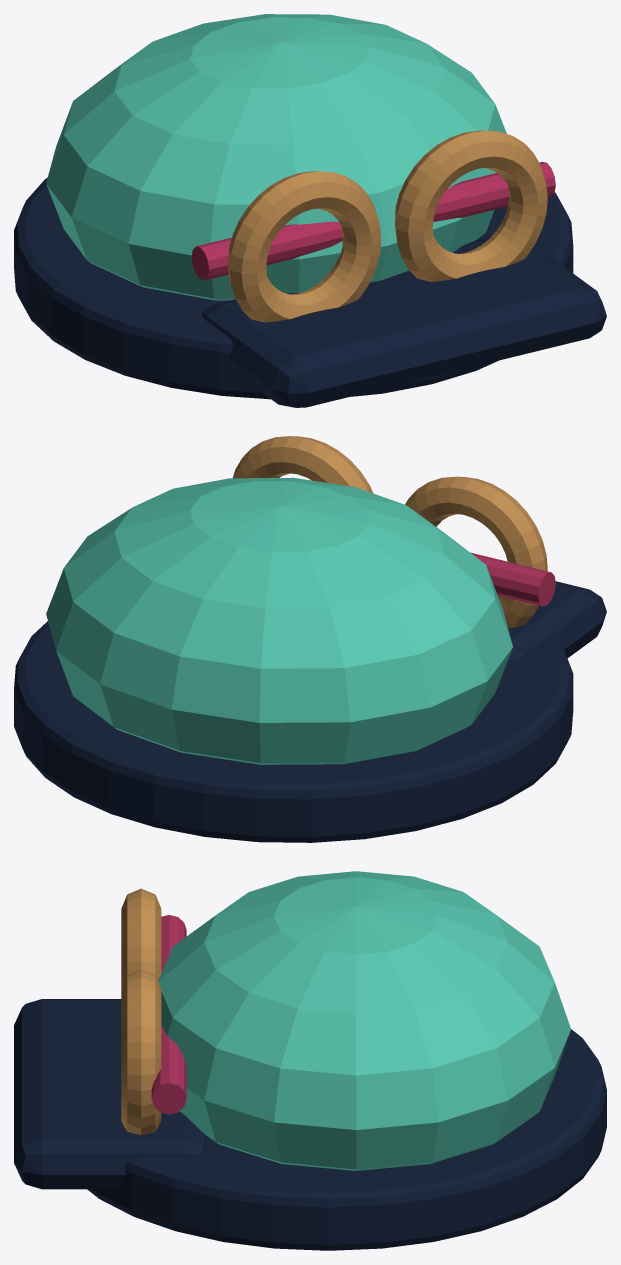
File: hat_mechanic.fbx
The picture shows the model from 3 angles, top to bottom: view 1: azimuth 30°, elevation 25°; view 2: azimuth 150°, elevation 25°; view 3: azimuth 270°, elevation 25°; orthographic projection.
Visible parts, largest first — view 1: hat_mechanic.Mesh; view 2: hat_mechanic.Mesh; view 3: hat_mechanic.Mesh.
Part boxes in pixels (<box>): hat_mechanic.Mesh: <box>14,14,606,407</box>; hat_mechanic.Mesh: <box>14,436,606,842</box>; hat_mechanic.Mesh: <box>14,871,606,1250</box>.
Bounding box in the file's own units: 70 × 34 × 74.5.
